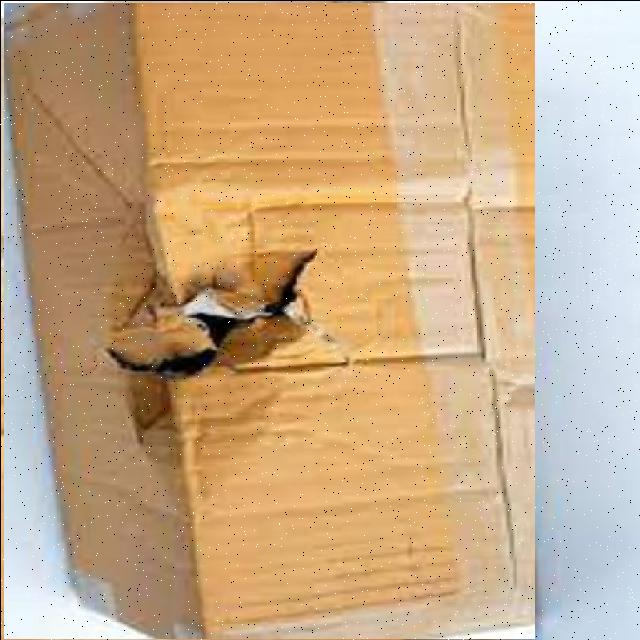defect: (3, 2, 534, 638)
